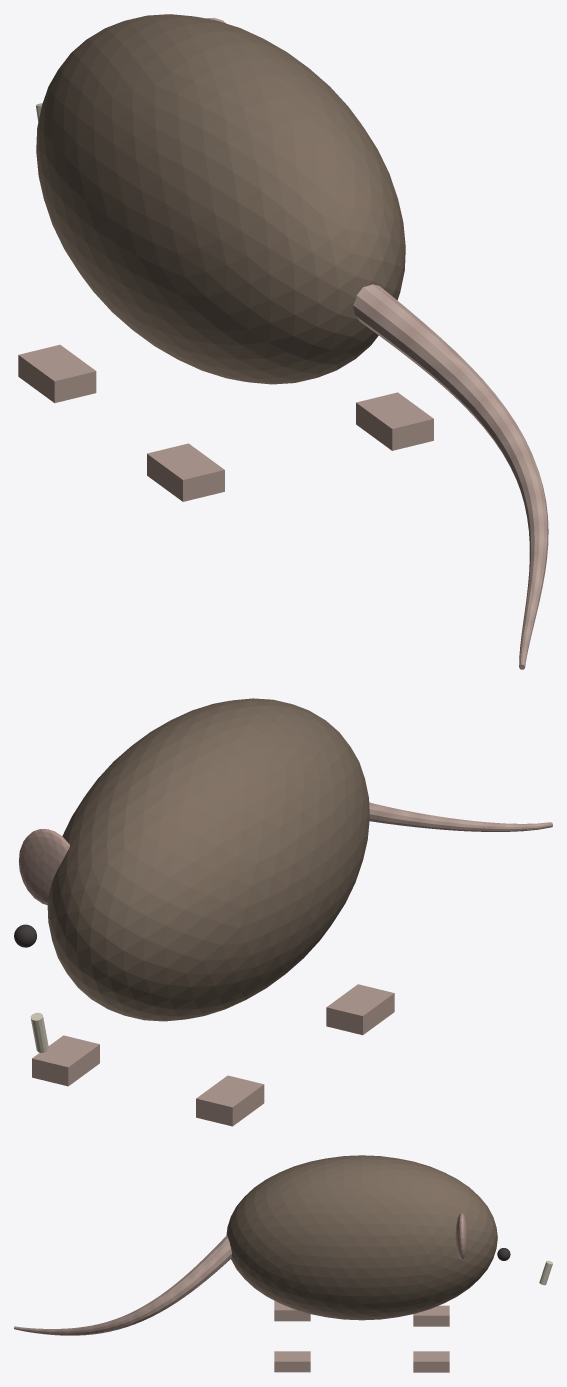
The model's file is rat_assembled.glb.
3 renders of one model, top to bottom at view 1: azimuth 30°, elevation 25°; view 2: azimuth 150°, elevation 25°; view 3: azimuth 270°, elevation 25°, orthographic. The views are drawn at different scales.
Visible parts, largest first — view 1: body, scaly_tail, world; view 2: body, world, scaly_tail; view 3: body, world, scaly_tail.
Part boxes in pixels (x1,y1,x2,y2): body: (36, 14, 405, 384); scaly_tail: (353, 284, 548, 669); world: (18, 18, 433, 501); body: (47, 698, 369, 1021); world: (14, 829, 394, 1126); scaly_tail: (369, 802, 552, 831); body: (226, 1155, 497, 1320); world: (274, 1213, 552, 1372); scaly_tail: (14, 1235, 231, 1335).
Size of the model in its own units: 0.48 by 0.67 by 1.79.
